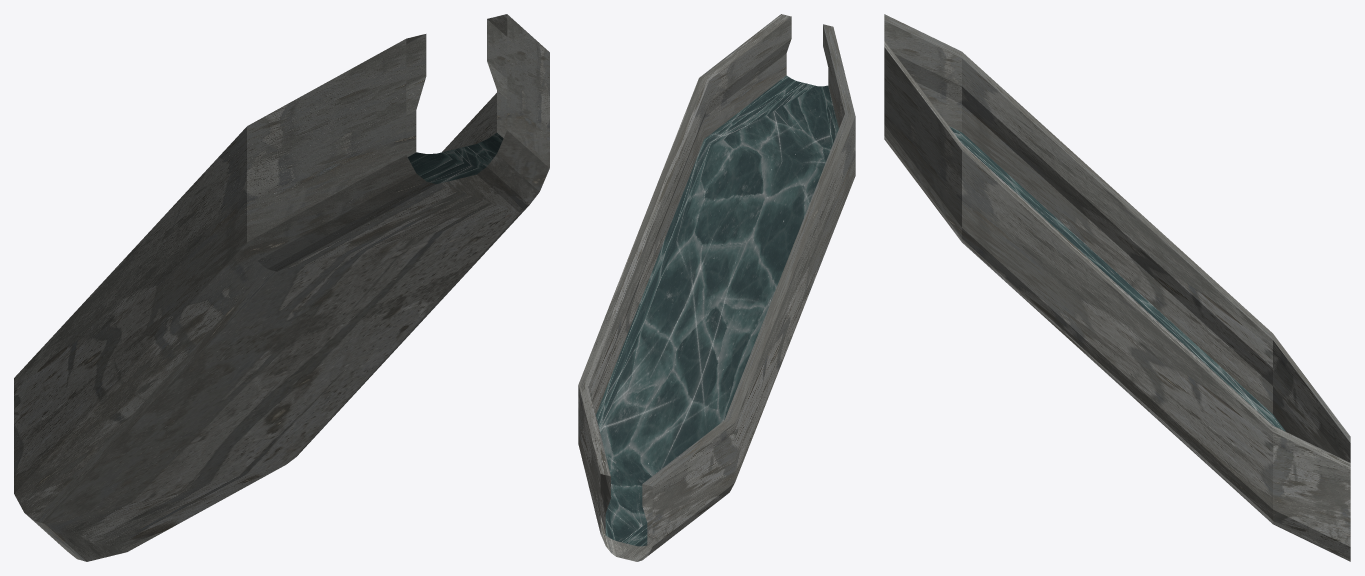
File: Dragonfly_IceSlide_Straight_Wide.fbx
The picture shows the model from 3 angles, left to right: view 1: azimuth 30°, elevation 25°; view 2: azimuth 150°, elevation 25°; view 3: azimuth 270°, elevation 25°; orthographic projection. The views are drawn at different scales.
Visible parts, largest first — view 1: Straight Slide Wide; view 2: Straight Slide Wide; view 3: Straight Slide Wide.
Boxes of the visible parts, box(x1,y1,x2,y2) form: Straight Slide Wide: box(14, 14, 549, 561); Straight Slide Wide: box(578, 14, 855, 561); Straight Slide Wide: box(884, 14, 1350, 561).
Bounding box in the file's own units: 30 × 74.5 × 60.
